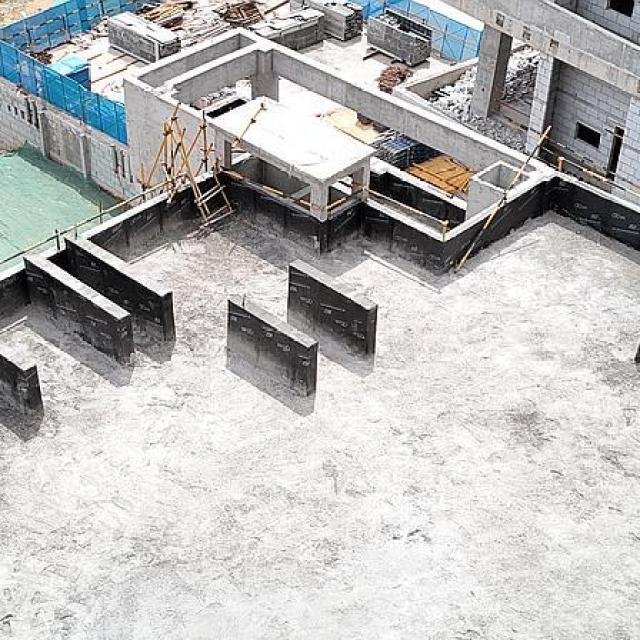edge_guardrail: (0, 173, 189, 266), (451, 124, 553, 274), (0, 0, 138, 54), (325, 187, 448, 242), (538, 145, 640, 200), (545, 135, 640, 188), (217, 166, 320, 211), (491, 87, 533, 132), (504, 61, 540, 94)
